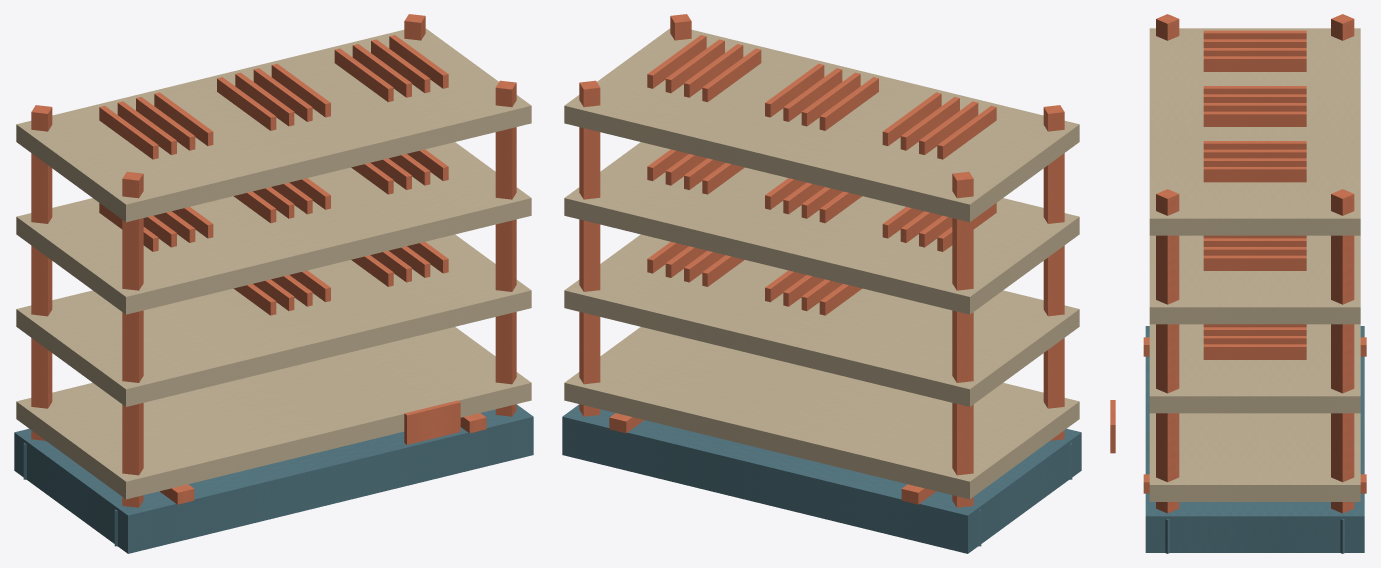
The model's file is atlas100-s047-a01.lod2.glb.
The picture shows the model from 3 angles, left to right: view 1: azimuth 30°, elevation 25°; view 2: azimuth 150°, elevation 25°; view 3: azimuth 270°, elevation 25°; orthographic projection. The views are drawn at different scales.
Parts seen in each view (by area): view 1: atlas100-s047-a01:part-050, atlas100-s047-a01:part-011, atlas100-s047-a01:part-024, atlas100-s047-a01:part-037, atlas100-s047-a01:part-000, atlas100-s047-a01:part-005, atlas100-s047-a01:part-009, atlas100-s047-a01:part-003, atlas100-s047-a01:part-063, atlas100-s047-a01:part-051, atlas100-s047-a01:part-055, atlas100-s047-a01:part-059 (+14 smaller); view 2: atlas100-s047-a01:part-011, atlas100-s047-a01:part-050, atlas100-s047-a01:part-024, atlas100-s047-a01:part-037, atlas100-s047-a01:part-000, atlas100-s047-a01:part-003, atlas100-s047-a01:part-007, atlas100-s047-a01:part-005, atlas100-s047-a01:part-051, atlas100-s047-a01:part-055, atlas100-s047-a01:part-059, atlas100-s047-a01:part-057 (+13 smaller); view 3: atlas100-s047-a01:part-050, atlas100-s047-a01:part-011, atlas100-s047-a01:part-024, atlas100-s047-a01:part-037, atlas100-s047-a01:part-000, atlas100-s047-a01:part-007, atlas100-s047-a01:part-009, atlas100-s047-a01:part-036, atlas100-s047-a01:part-054, atlas100-s047-a01:part-049, atlas100-s047-a01:part-058, atlas100-s047-a01:part-062 (+18 smaller).
Part boxes in pixels (x1,y1,x2,y2): atlas100-s047-a01:part-050: (16, 28, 531, 222); atlas100-s047-a01:part-011: (16, 327, 531, 499); atlas100-s047-a01:part-024: (16, 234, 531, 406); atlas100-s047-a01:part-037: (16, 142, 531, 314); atlas100-s047-a01:part-000: (14, 404, 533, 553); atlas100-s047-a01:part-005: (122, 171, 143, 507); atlas100-s047-a01:part-009: (495, 80, 516, 416); atlas100-s047-a01:part-003: (31, 105, 52, 440); atlas100-s047-a01:part-063: (404, 400, 460, 444); atlas100-s047-a01:part-051: (99, 106, 158, 159); atlas100-s047-a01:part-055: (217, 77, 276, 130); atlas100-s047-a01:part-059: (334, 48, 393, 102); atlas100-s047-a01:part-011: (564, 327, 1079, 499); atlas100-s047-a01:part-050: (564, 28, 1079, 222); atlas100-s047-a01:part-024: (564, 234, 1079, 406); atlas100-s047-a01:part-037: (564, 142, 1079, 314); atlas100-s047-a01:part-000: (562, 404, 1081, 553); atlas100-s047-a01:part-003: (952, 171, 973, 507); atlas100-s047-a01:part-007: (579, 80, 600, 416); atlas100-s047-a01:part-005: (1043, 105, 1064, 440); atlas100-s047-a01:part-051: (937, 106, 996, 159); atlas100-s047-a01:part-055: (819, 77, 878, 130); atlas100-s047-a01:part-059: (702, 48, 761, 102); atlas100-s047-a01:part-057: (783, 68, 842, 121); atlas100-s047-a01:part-050: (1149, 28, 1360, 235); atlas100-s047-a01:part-011: (1149, 413, 1360, 501); atlas100-s047-a01:part-024: (1149, 324, 1360, 413); atlas100-s047-a01:part-037: (1149, 235, 1360, 324); atlas100-s047-a01:part-000: (1145, 326, 1364, 552); atlas100-s047-a01:part-007: (1331, 189, 1354, 513); atlas100-s047-a01:part-009: (1156, 189, 1179, 513); atlas100-s047-a01:part-036: (1203, 344, 1306, 359); atlas100-s047-a01:part-054: (1203, 56, 1306, 71); atlas100-s047-a01:part-049: (1203, 255, 1306, 270); atlas100-s047-a01:part-058: (1203, 111, 1306, 126); atlas100-s047-a01:part-062: (1203, 167, 1306, 182).
Bounding box in the file's own units: 2.91 × 2.53 × 1.64.
Materials: 3 (3 with a texture image).
